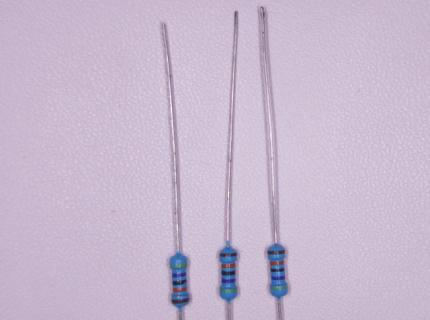Black band: (172, 279, 187, 285), (221, 270, 235, 275), (271, 268, 284, 272)
Brown band: (267, 250, 285, 255), (172, 298, 189, 303), (219, 253, 237, 257)
Orange band: (173, 287, 187, 292), (222, 263, 236, 268), (270, 260, 284, 265)
Violet band: (172, 272, 186, 278), (271, 275, 286, 280), (222, 278, 235, 283)
Yellow band: (221, 287, 237, 293), (171, 263, 187, 268), (270, 286, 288, 289)
